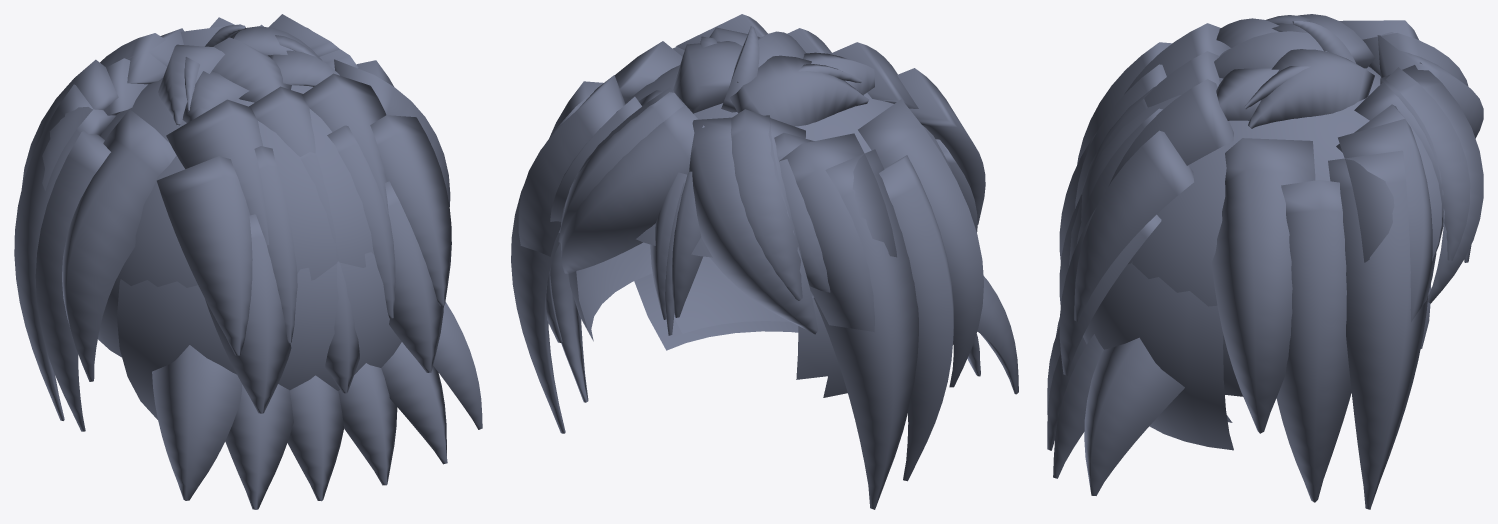
File: catio_hair.fbx
3 renders of one model, left to right at view 1: azimuth 30°, elevation 25°; view 2: azimuth 150°, elevation 25°; view 3: azimuth 270°, elevation 25°, orthographic. The views are drawn at different scales.
Visible parts, largest first — view 1: CatioHair; view 2: CatioHair; view 3: CatioHair.
Boxes of the visible parts, x1=… form: CatioHair: x1=14, y1=14, x2=482, y2=509; CatioHair: x1=511, y1=14, x2=1018, y2=509; CatioHair: x1=1047, y1=14, x2=1483, y2=509.
Size of the model in its own units: 179 by 170 by 162.
